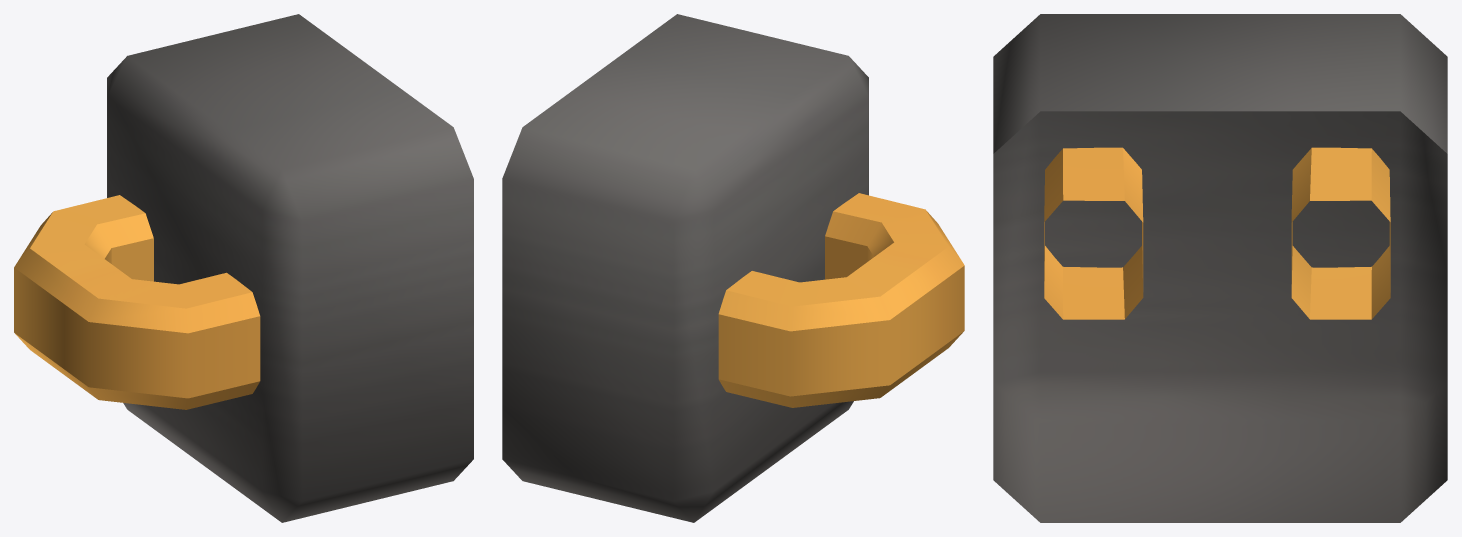
Rendered from ChainCube_2.obj.
3 views of the same model, side by side, from view 1: azimuth 30°, elevation 25°; view 2: azimuth 150°, elevation 25°; view 3: azimuth 270°, elevation 25° (orthographic). The views are drawn at different scales.
Parts seen in each view (by area): view 1: ChainCube_2; view 2: ChainCube_2; view 3: ChainCube_2.
Part boxes in pixels (x1=…): ChainCube_2: x1=14, y1=14, x2=473, y2=522; ChainCube_2: x1=502, y1=14, x2=964, y2=522; ChainCube_2: x1=993, y1=14, x2=1447, y2=522.
Bounding box in the file's own units: 0.167 × 0.1731 × 0.1731.
